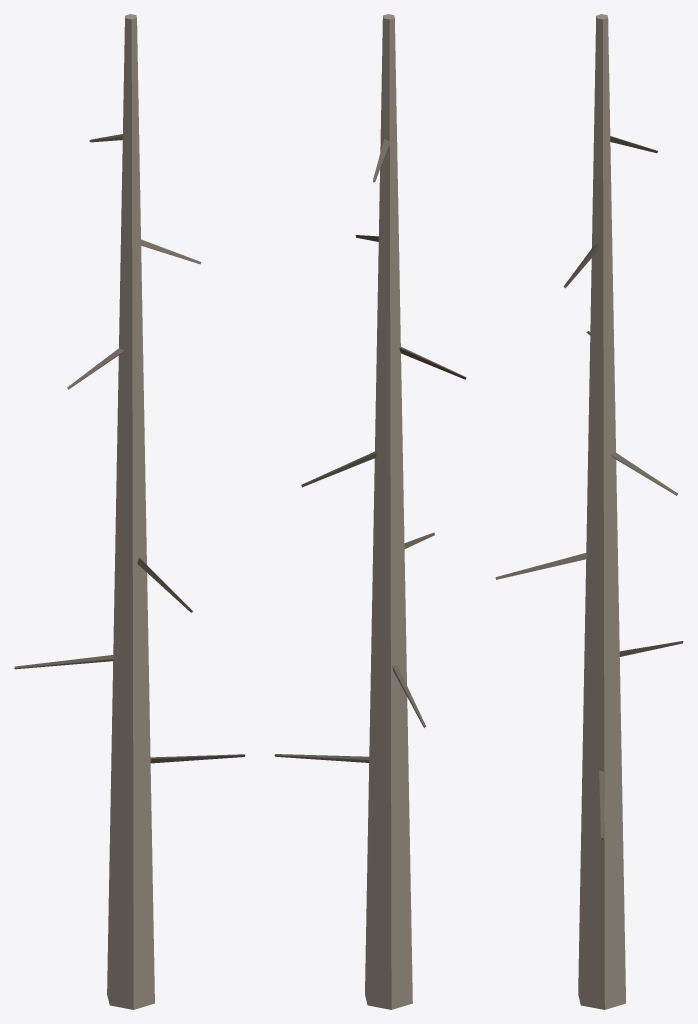
File: mort_conifere.glb
3 views of the same model, side by side, from view 1: azimuth 30°, elevation 25°; view 2: azimuth 150°, elevation 25°; view 3: azimuth 270°, elevation 25° (orthographic).
Parts seen in each view (by area): view 1: mort_conifere; view 2: mort_conifere; view 3: mort_conifere.
Part boxes in pixels (<box>): mort_conifere: <box>14,14,245,1009</box>; mort_conifere: <box>274,14,466,1009</box>; mort_conifere: <box>495,14,683,1009</box>.
Size of the model in its own units: 2.69 by 13.2 by 2.29.
Materials: 1 (1 with a texture image).
